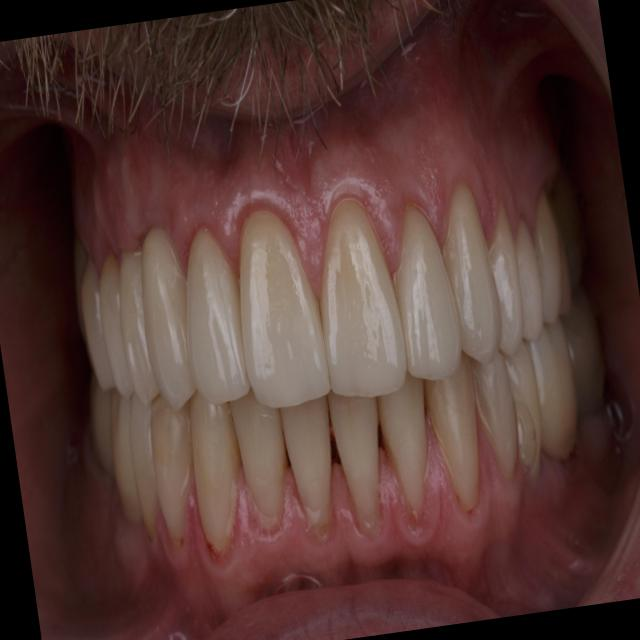Tooth: (240, 213, 331, 407), (320, 200, 407, 397), (392, 206, 461, 380), (187, 230, 251, 404), (441, 187, 501, 363), (141, 227, 197, 410), (424, 348, 479, 512), (190, 389, 241, 554), (229, 386, 287, 516), (378, 371, 427, 513), (280, 395, 331, 528), (531, 318, 578, 459), (150, 393, 192, 548), (327, 391, 378, 515), (120, 250, 160, 405), (498, 338, 541, 480), (470, 351, 517, 479), (488, 199, 524, 356), (560, 290, 604, 409), (99, 254, 134, 397), (129, 388, 158, 541), (81, 261, 115, 390), (110, 385, 142, 522), (533, 193, 563, 322), (516, 218, 543, 340), (91, 373, 115, 470)
